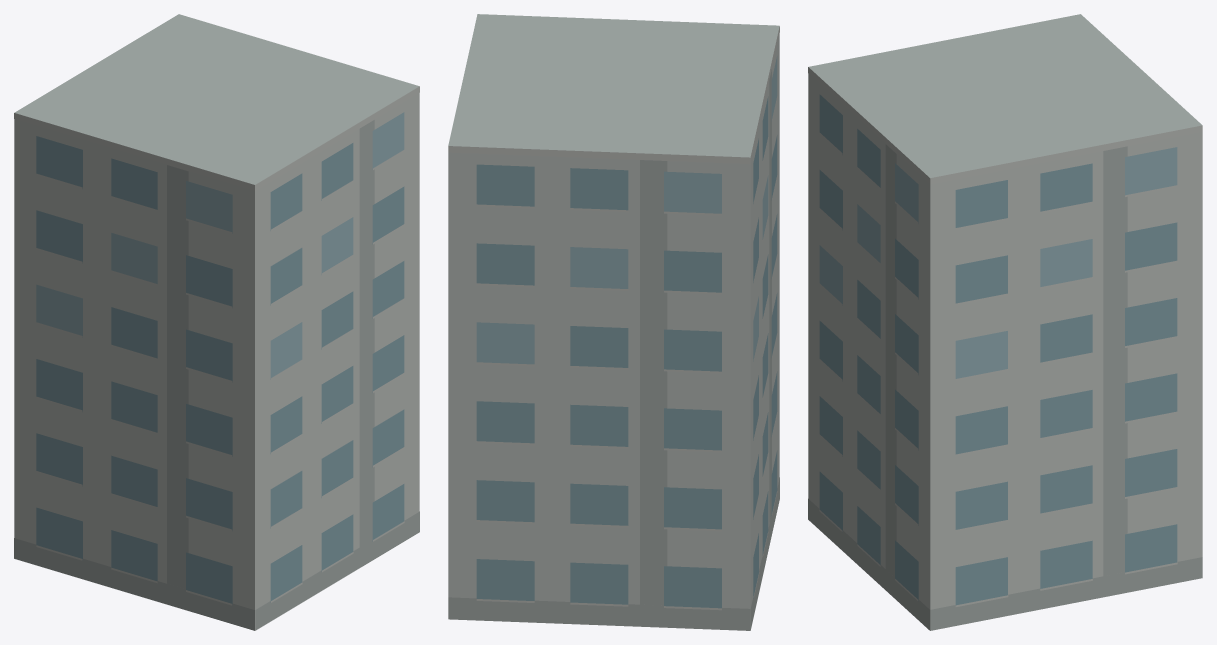
Rendered from survey-upis-32788541.glb.
The picture shows the model from 3 angles, left to right: view 1: azimuth 30°, elevation 25°; view 2: azimuth 150°, elevation 25°; view 3: azimuth 270°, elevation 25°; orthographic projection. The views are drawn at different scales.
Visible parts, largest first — view 1: survey-upis-32788541.tmp; view 2: survey-upis-32788541.tmp; view 3: survey-upis-32788541.tmp.
Part boxes in pixels (x1=…): survey-upis-32788541.tmp: x1=14, y1=14, x2=419, y2=630; survey-upis-32788541.tmp: x1=448, y1=14, x2=779, y2=630; survey-upis-32788541.tmp: x1=808, y1=14, x2=1202, y2=630.
Size of the model in its own units: 13.39 by 17.2 by 13.59.
